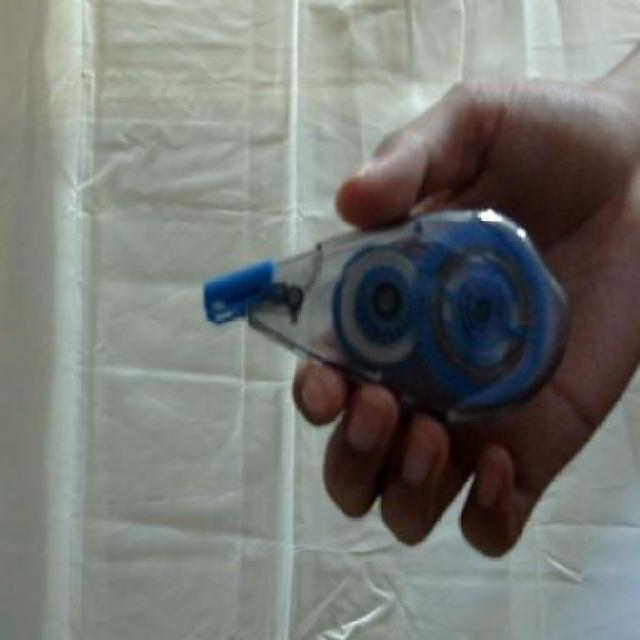Plastic: (191, 190, 579, 438)
